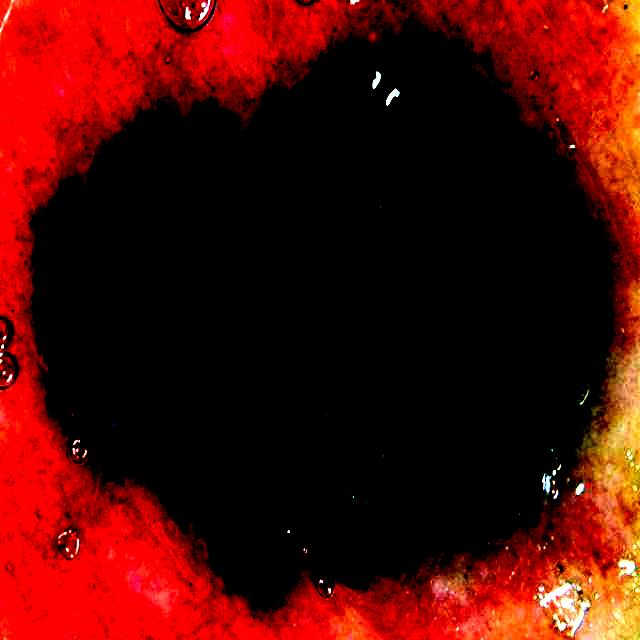MEL: (39, 71, 577, 590)
